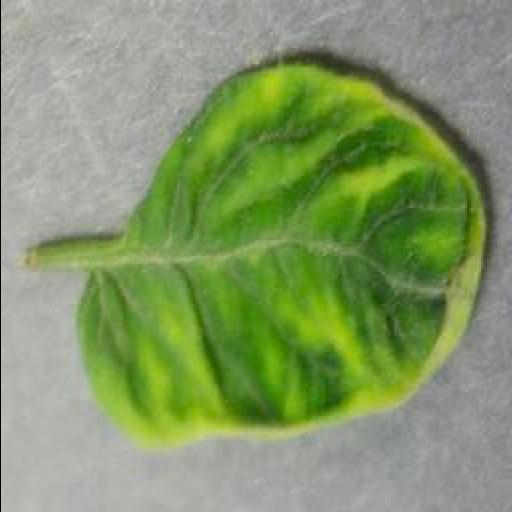disease_tomato: (73, 60, 491, 450)
